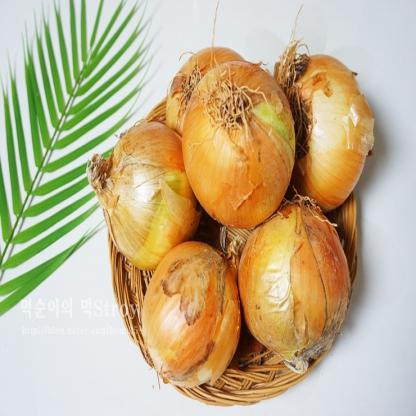onion: (142, 232, 244, 413), (250, 203, 360, 358), (292, 48, 390, 198), (200, 61, 287, 210), (112, 110, 200, 254)
